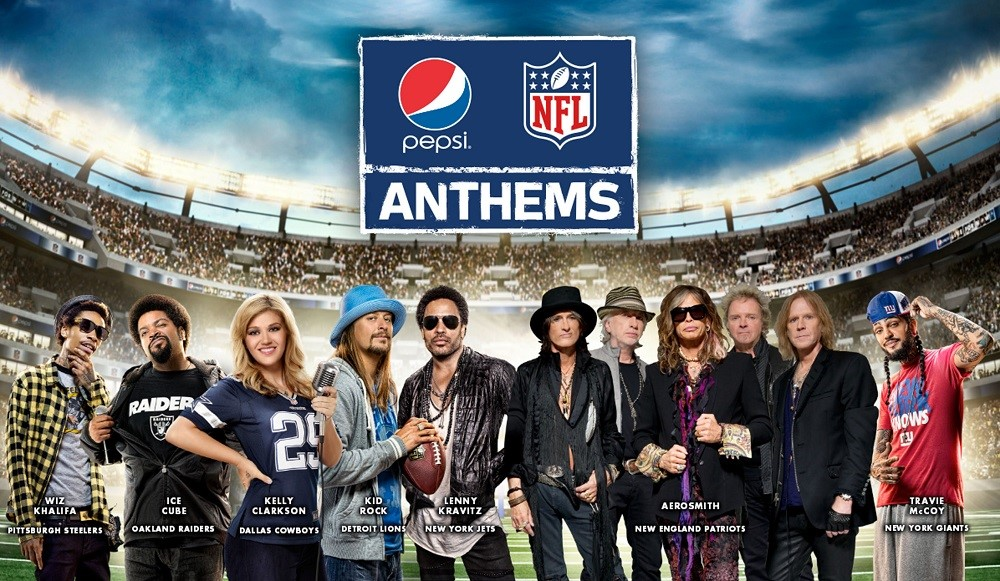pepsi: (396, 53, 472, 130)
